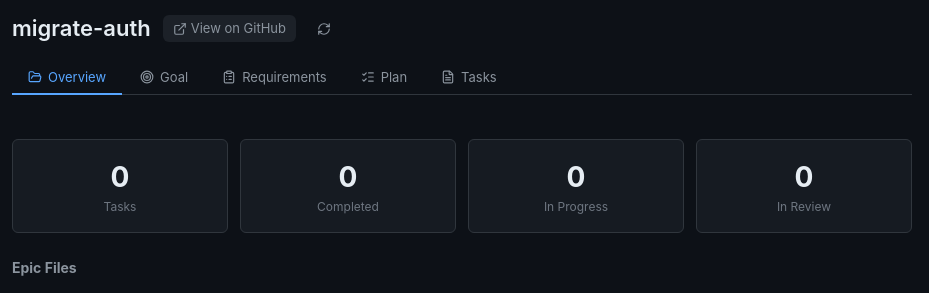
Test: EpicDetail › shows empty tasks message when no tasks
This screenshot has width=929, height=293.
Click the button with test id "tab-tasks" at (469, 78), box 425,61 -> 513,95
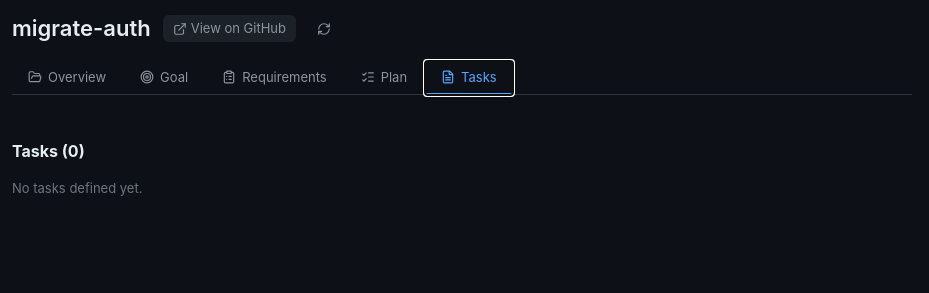
expect the text "No tasks defined yet." is shown: met, box 12,180 -> 142,196
